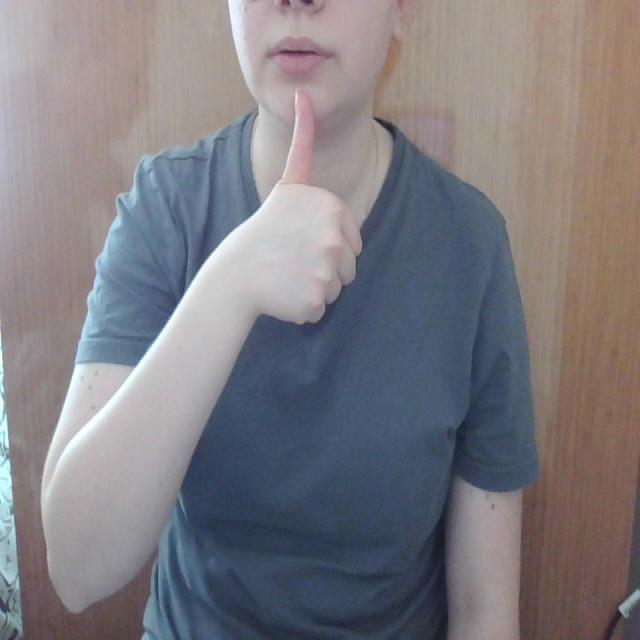Baba: (249, 34, 344, 180)
